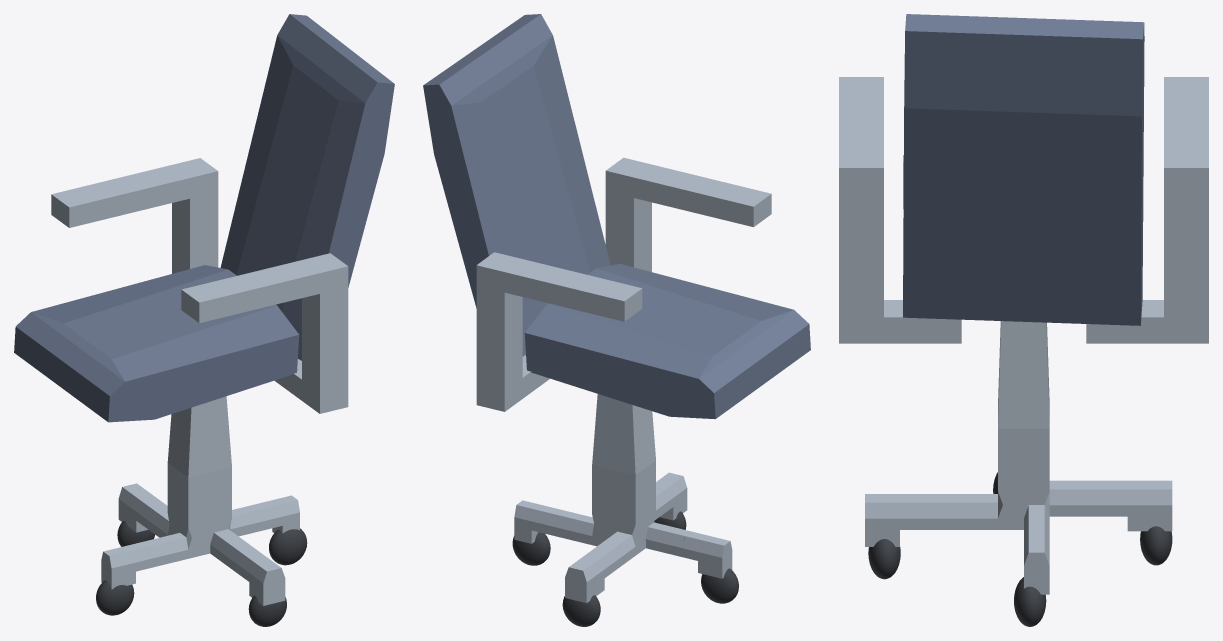
The model's file is bureaustoel nieuw.fbx.
3 renders of one model, left to right at view 1: azimuth 30°, elevation 25°; view 2: azimuth 150°, elevation 25°; view 3: azimuth 270°, elevation 25°, orthographic. The views are drawn at different scales.
Visible parts, largest first — view 1: Cube.001, Cube.003, Cube, Sphere.002; view 2: Cube.001, Cube.003, Cube, Sphere.002; view 3: Cube.001, Cube.003, Cube, Sphere.002.
Boxes of the visible parts, <box> form: Cube.001: <box>14,14,394,422</box>; Cube.003: <box>51,158,348,413</box>; Cube: <box>101,396,299,605</box>; Sphere.002: <box>96,521,307,626</box>; Cube.001: <box>423,14,810,419</box>; Cube.003: <box>476,157,771,411</box>; Cube: <box>514,394,732,603</box>; Sphere.002: <box>512,511,738,626</box>; Cube.001: <box>903,14,1144,325</box>; Cube.003: <box>839,77,1208,343</box>; Cube: <box>865,321,1172,594</box>; Sphere.002: <box>868,472,1172,626</box>.
Bounding box in the file's own units: 640 × 1056 × 557.
4 materials, 4 textured.
